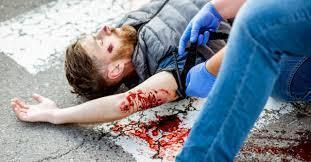Fire: (110, 114, 191, 162), (236, 126, 311, 162), (120, 89, 178, 114), (108, 44, 114, 53)
